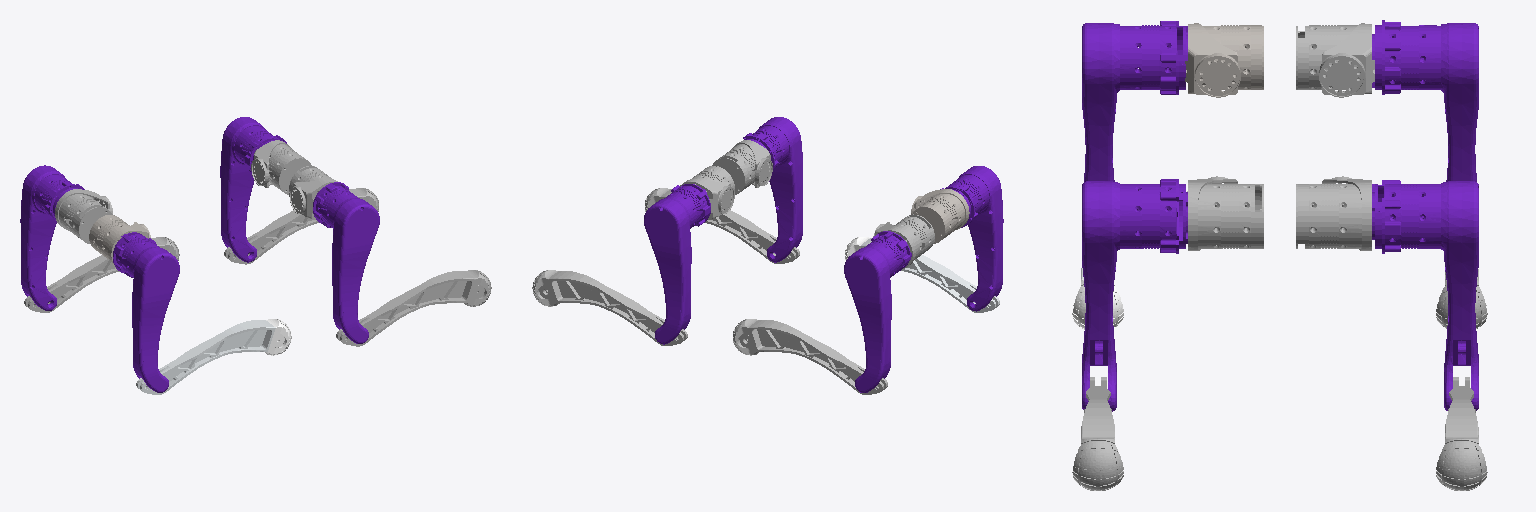
robot.urdf — hje3:
<?xml version="1.0" encoding="utf-8"?>

<robot name="hje3">
  <link name="base_link">
    <inertial>
        <origin xyz="0.000055 0.001439 0.005245" rpy="0 0 0" />
      <mass value="6.7" />
      <inertia ixx="0.03265071" ixy="0.000003032" ixz="-0.000008784" iyy="0.052731396" iyz="0.000111418" izz="0.073843864" />
    </inertial>
    <visual>
      <origin xyz="0 0 0" rpy="0 0 0" />
      <geometry>
        <mesh filename="../meshes/base_link.STL" />
      </geometry>
      <material name="">
        <color rgba="1 0.5 0.75294 1" />
      </material>
    </visual>
    <collision>
      <origin xyz="0 0 0" rpy="0 0 0" />
      <geometry>
        <box size="0.28 0.216 0.112"/>
      </geometry>
    </collision>
  </link>

  <link name="FL_hip">
    <inertial>
      <origin xyz="-0.001963 0.001357 0" rpy="0 0 0" />
      <mass value="0.718" />
      <inertia ixx="0.000359936" ixy="-0.000004579" ixz="0.000000011" iyy="0.000431888" iyz="-0.000000013" izz="0.000398364" />
    </inertial>
    <visual>
      <origin xyz="0 0 0" rpy="0 0 0" />
      <geometry>
        <mesh filename="../meshes/FL_HIP_Link.STL" />
      </geometry>
      <material name="">
        <color rgba="0.75294 0.75294 0.75294 1" />
      </material>
    </visual>
    <collision>
      <origin xyz="0.0 0.0 0" rpy="1.57 0 0" />
      <geometry>
       <cylinder length="0.073" radius="0.03"/>
      </geometry>
    </collision>
  </link>

  <joint name="FL_hip_joint" type="revolute">
    <origin xyz="0.1875 0.062 0" rpy="0 0 0" />
    <parent link="base_link" />
    <child link="FL_hip" />
    <axis xyz="1 0 0" />
    <limit lower="-0.5" upper="0.5" effort="27" velocity="27" />
  </joint>

  <link name="FL_thigh">
    <inertial>
      <origin xyz="-0.002987 -0.02756 -0.021782" rpy="0 0 0" />
      <mass value="0.96" />
      <inertia ixx="0.003158375" ixy="-0.000079198" ixz="0.000246623" iyy="0.002941752" iyz="-0.000581791" izz="0.000812062" />
    </inertial>
    <visual>
      <origin xyz="0 0 0" rpy="0 0 0" />
      <geometry>
        <mesh filename="../meshes/FL_THIGH_Link.STL" />
      </geometry>
      <material name="">
        <color rgba="0.5 0.2 0.8 1.0" />
      </material>
    </visual>
    <collision>
      <origin xyz="0.0 -0.03 0" rpy="1.57 0 0" />
      <geometry>
        <cylinder length="0.10" radius="0.03"/>
      </geometry>
    </collision>
    <collision>
      <origin xyz="-0.015 0.0 -0.105" rpy="0.0 0 0" />
      <geometry>
        <cylinder length="0.12" radius="0.02"/>
      </geometry>
    </collision>
  </link>

  <joint name="FL_thigh_joint" type="revolute">
    <origin xyz="0 0.12 0" rpy="0 0 0" />
    <parent link="FL_hip" />
    <child link="FL_thigh" />
    <axis xyz="0 1 0" />
    <limit lower="-1.85" upper="3.4" effort="27" velocity="27" />
  </joint>

  <link name="FL_calf">
    <inertial>
      <origin xyz="0.009694 0 -0.110232" rpy="0 0 0" />
      <mass value="0.105" />
      <inertia ixx="0.000710214" ixy="0" ixz="-0.000027472" iyy="0.000727939" iyz="0" izz="0.00002556" />
    </inertial>
    <visual>
      <origin xyz="0 0 0" rpy="0 0 0" />
      <geometry>
        <mesh filename="../meshes/FL_CALF_Link.STL" />
      </geometry>
      <material name="">
        <color rgba="0.75294 0.75294 0.75294 1" />
      </material>
    </visual>
    <collision>
      <origin xyz="0.018 0 -0.160" rpy="0 0.13 0" />
      <geometry>
        <cylinder length="0.06" radius="0.025"/>
      </geometry>
    </collision>
  </link>

  <joint name="FL_calf_joint" type="revolute">
    <origin xyz="0 0 -0.2" rpy="0 0 0" />
    <parent link="FL_thigh" />
    <child link="FL_calf" />
    <axis xyz="0 1 0" />
    <limit lower="-2.757" upper="-0.66" effort="27" velocity="27" />
  </joint>

  <link name="FL_foot">
    <inertial>
      <origin xyz="-0.003032 -0.000269 -0.005702" rpy="0 0 0" />
      <mass value="0.064" />
      <inertia ixx="0.000017474" ixy="-0.000000052" ixz="-0.000002419" iyy="0.000020216" iyz="-0.000000099" izz="0.000020737" />
    </inertial>
    <visual>
      <origin xyz="0 0 0" rpy="0 0 0" />
      <geometry>
        <mesh filename="../meshes/FL_FOOT_Link.STL" />
      </geometry>
      <material name="">
        <color rgba="0.75294 0.75294 0.75294 1" />
      </material>
    </visual>
    <collision>
      <origin xyz="0.0 0 0.0" rpy="0 0 0" />
      <geometry>
          <sphere radius="0.03"/>
      </geometry>
    </collision>
  </link>

  <joint name="FL_foot_joint" type="fixed" dont_collapse="true">
    <origin xyz="0 0 -0.219" rpy="0 0 0" />
    <parent link="FL_calf" />
    <child link="FL_foot" />
    <axis xyz="0 0 0" />
  </joint>


  <link name="FR_hip">
    <inertial>
      <origin xyz="-0.001963 -0.001357 0" rpy="0 0 0" />
      <mass value="0.718" />
      <inertia ixx="0.000359936" ixy="0.000004579" ixz="-0.000000011" iyy="0.000431888" iyz="-0.000000013" izz="0.000398364" />
    </inertial>
    <visual>
      <origin xyz="0 0 0" rpy="0 0 0" />
      <geometry>
        <mesh filename="../meshes/FR_HIP_Link.STL" />
      </geometry>
      <material name="">
        <color rgba="0.75294 0.75294 0.75294 1" />
      </material>
    </visual>
    <collision>
      <origin xyz="0.0 0.0 0" rpy="1.57 0 0" />
      <geometry>
       <cylinder length="0.073" radius="0.03"/>
      </geometry>
    </collision>
  </link>

  <joint name="FR_hip_joint" type="revolute">
    <origin xyz="0.1875 -0.062 0" rpy="0 0 0" />
    <parent link="base_link" />
    <child link="FR_hip" />
    <axis xyz="1 0 0" />
    <limit lower="-0.5" upper="0.5" effort="27" velocity="27" />
  </joint>

  <link name="FR_thigh">
    <inertial>
      <origin xyz="-0.002987 0.02756 -0.021782" rpy="0 0 0" />
      <mass value="0.96" />
      <inertia ixx="0.003158375" ixy="0.000079198" ixz="0.000246623" iyy="0.002941752" iyz="0.000581791" izz="0.000812062" />
    </inertial>
    <visual>
      <origin xyz="0 0 0" rpy="0 0 0" />
      <geometry>
        <mesh filename="../meshes/FR_THIGH_Link.STL" />
      </geometry>
      <material name="">
        <color rgba="0.5 0.2 0.8 1.0" />
      </material>
    </visual>
    <collision>
      <origin xyz="0.0 0.03 0" rpy="1.57 0 0" />
      <geometry>
        <cylinder length="0.10" radius="0.03"/>
      </geometry>
    </collision>
    <collision>
      <origin xyz="-0.015 0.0 -0.105" rpy="0.0 0 0" />
      <geometry>
        <cylinder length="0.12" radius="0.02"/>
      </geometry>
    </collision>
  </link>


  <joint name="FR_thigh_joint" type="revolute">
    <origin xyz="0 -0.12 0" rpy="0 0 0" />
    <parent link="FR_hip" />
    <child link="FR_thigh" />
    <axis xyz="0 1 0" />
    <limit lower="-1.85" upper="3.4" effort="27" velocity="27" />
  </joint>

  <link name="FR_calf">
    <inertial>
      <origin xyz="0.009694 0 -0.110232" rpy="0 0 0" />
      <mass value="0.105" />
      <inertia ixx="0.000710214" ixy="0" ixz="-0.000027472" iyy="0.000727939" iyz="0" izz="0.00002556" />
    </inertial>
    <visual>
      <origin xyz="0 0 0" rpy="0 0 0" />
      <geometry>
        <mesh filename="../meshes/FR_CALF_Link.STL" />
      </geometry>
      <material name="">
        <color rgba="0.75294 0.75294 0.75294 1" />
      </material>
    </visual>
    <collision>
      <origin xyz="0.018 0 -0.160" rpy="0 0.13 0" />
      <geometry>
        <cylinder length="0.06" radius="0.025"/>
      </geometry>
    </collision>
  </link>

  <joint name="FR_calf_joint" type="revolute">
    <origin xyz="0 0 -0.2" rpy="0 0 0" />
    <parent link="FR_thigh" />
    <child link="FR_calf" />
    <axis xyz="0 1 0" />
    <limit lower="-2.757" upper="-0.66" effort="27" velocity="27" />
  </joint>

  <link name="FR_foot">
    <inertial>
      <origin xyz="-0.003032 -0.000269 -0.005702" rpy="0 0 0" />
      <mass value="0.064" />
      <inertia ixx="0.000017474" ixy="-0.000000052" ixz="-0.000002419" iyy="0.000020216" iyz="-0.000000099" izz="0.000020737" />
    </inertial>
    <visual>
      <origin xyz="0 0 0" rpy="0 0 0" />
      <geometry>
        <mesh filename="../meshes/FR_FOOT_Link.STL" />
      </geometry>
      <material name="">
        <color rgba="0.75294 0.75294 0.75294 1" />
      </material>
    </visual>
    <collision>
      <origin xyz="0.0 0 0.0" rpy="0 0 0" />
      <geometry>
          <sphere radius="0.03"/>
      </geometry>
    </collision>
  </link>

  <joint name="FR_foot_joint" type="fixed" dont_collapse="true">
    <origin xyz="0 0 -0.219" rpy="0 0 0" />
    <parent link="FR_calf" />
    <child link="FR_foot" />
    <axis xyz="0 0 0" />
  </joint>


  <link name="RL_hip">
    <inertial>
      <origin xyz="0.001963 0.001357 0" rpy="0 0 0" />
      <mass value="0.718" />
      <inertia ixx="0.000359936" ixy="0.000004579" ixz="0.000000011" iyy="0.000431888" iyz="0.000000013" izz="0.000398364" />
    </inertial>
    <visual>
      <origin xyz="0 0 0" rpy="0 0 0" />
      <geometry>
        <mesh filename="../meshes/RL_HIP_Link.STL" />
      </geometry>
      <material name="">
        <color rgba="0.75294 0.75294 0.75294 1" />
      </material>
    </visual>
    <collision>
      <origin xyz="0.0 0.0 0" rpy="1.57 0 0" />
      <geometry>
       <cylinder length="0.073" radius="0.03"/>
      </geometry>
    </collision>
  </link>
  <joint name="RL_hip_joint" type="revolute">
    <origin xyz="-0.1875 0.062 0" rpy="0 0 0" />
    <parent link="base_link" />
    <child link="RL_hip" />
    <axis xyz="1 0 0" />
    <limit lower="-0.5" upper="0.5" effort="27" velocity="27" />
  </joint>
  <link name="RL_thigh">
    <inertial>
      <origin xyz="-0.002987 -0.02756 -0.021782" rpy="0 0 0" />
      <mass value="0.96" />
      <inertia ixx="0.003158375" ixy="-0.000079198" ixz="0.000246623" iyy="0.002941752" iyz="-0.000581791" izz="0.000812062" />
    </inertial>
    <visual>
      <origin xyz="0 0 0" rpy="0 0 0" />
      <geometry>
        <mesh filename="../meshes/RL_THIGH_Link.STL" />
      </geometry>
      <material name="">
        <color rgba="0.5 0.2 0.8 1.0" />
      </material>
    </visual>
    <collision>
      <origin xyz="0.0 -0.03 0" rpy="1.57 0 0" />
      <geometry>
        <cylinder length="0.10" radius="0.03"/>
      </geometry>
    </collision>
    <collision>
      <origin xyz="-0.015 0.0 -0.105" rpy="0.0 0 0" />
      <geometry>
        <cylinder length="0.12" radius="0.02"/>
      </geometry>
    </collision>
  </link>

  <joint name="RL_thigh_joint" type="revolute">
    <origin xyz="0 0.12 0" rpy="0 0 0" />
    <parent link="RL_hip" />
    <child link="RL_thigh" />
    <axis xyz="0 1 0" />
    <limit lower="-1.85" upper="3.4" effort="27" velocity="27" />
  </joint>

  <link name="RL_calf">
    <inertial>
      <origin xyz="0.009694 0 -0.110232" rpy="0 0 0" />
      <mass value="0.105" />
      <inertia ixx="0.000710214" ixy="0" ixz="-0.000027472" iyy="0.000727939" iyz="0" izz="0.00002556" />
    </inertial>
    <visual>
      <origin xyz="0 0 0" rpy="0 0 0" />
      <geometry>
        <mesh filename="../meshes/RL_CALF_Link.STL" />
      </geometry>
      <material name="">
        <color rgba="0.75294 0.75294 0.75294 1" />
      </material>
    </visual>
    <collision>
      <origin xyz="0.018 0 -0.160" rpy="0 0.13 0" />
      <geometry>
        <cylinder length="0.06" radius="0.025"/>
      </geometry>
    </collision>
  </link>

  <joint name="RL_calf_joint" type="revolute">
    <origin xyz="0 0 -0.2" rpy="0 0 0" />
    <parent link="RL_thigh" />
    <child link="RL_calf" />
    <axis xyz="0 1 0" />
    <limit lower="-2.757" upper="-0.66" effort="27" velocity="27" />
  </joint>

  <link name="RL_foot">
    <inertial>
      <origin xyz="-0.003032 -0.000269 -0.005702" rpy="0 0 0" />
      <mass value="0.064" />
      <inertia ixx="0.000017474" ixy="-0.000000052" ixz="-0.000002419" iyy="0.000020216" iyz="-0.000000099" izz="0.000020737" />
    </inertial>
    <visual>
      <origin xyz="0 0 0" rpy="0 0 0" />
      <geometry>
        <mesh filename="../meshes/RL_FOOT_Link.STL" />
      </geometry>
      <material name="">
        <color rgba="0.75294 0.75294 0.75294 1" />
      </material>
    </visual>
    <collision>
      <origin xyz="0.0 0 0.0" rpy="0 0 0" />
      <geometry>
          <sphere radius="0.03"/>
      </geometry>
    </collision>
  </link>
  <joint name="RL_foot_joint" type="fixed" dont_collapse="true">
    <origin xyz="0 0 -0.219" rpy="0 0 0" />
    <parent link="RL_calf" />
    <child link="RL_foot" />
    <axis xyz="0 0 0" />
  </joint>

  <link name="RR_hip">
    <inertial>
      <origin xyz="0.001963 -0.001357 0" rpy="0 0 0" />
      <mass value="0.718" />
      <inertia ixx="0.000359936" ixy="-0.000004579" ixz="-0.000000011" iyy="0.000431888" iyz="0.000000013" izz="0.000398364" />
    </inertial>
    <visual>
      <origin xyz="0 0 0" rpy="0 0 0" />
      <geometry>
        <mesh filename="../meshes/RR_HIP_Link.STL" />
      </geometry>
      <material name="">
        <color rgba="0.77647 0.75686 0.73725 1" />
      </material>
    </visual>
    <collision>
      <origin xyz="0.0 0.0 0" rpy="1.57 0 0" />
      <geometry>
       <cylinder length="0.073" radius="0.03"/>
      </geometry>
    </collision>
  </link>

  <joint name="RR_hip_joint" type="revolute">
    <origin xyz="-0.1875 -0.062 0" rpy="0 0 0" />
    <parent link="base_link" />
    <child link="RR_hip" />
    <axis xyz="1 0 0" />
    <limit lower="-0.5" upper="0.5" effort="27" velocity="27" />
  </joint>

  <link name="RR_thigh">
    <inertial>
      <origin xyz="-0.002987 0.02756 -0.021782" rpy="0 0 0" />
      <mass value="0.96" />
      <inertia ixx="0.003158375" ixy="0.000079198" ixz="0.000246623" iyy="0.002941752" iyz="0.000581791" izz="0.000812062" />
    </inertial>
    <visual>
      <origin xyz="0 0 0" rpy="0 0 0" />
      <geometry>
        <mesh filename="../meshes/RR_THIGH_Link.STL" />
      </geometry>
      <material name="">
        <color rgba="0.5 0.2 0.8 1.0" />
      </material>
    </visual>
    <collision>
      <origin xyz="0.0 0.03 0" rpy="1.57 0 0" />
      <geometry>
        <cylinder length="0.10" radius="0.03"/>
      </geometry>
    </collision>
    <collision>
      <origin xyz="-0.015 0.0 -0.105" rpy="0.0 0 0" />
      <geometry>
        <cylinder length="0.12" radius="0.02"/>
      </geometry>
    </collision>
  </link>

  <joint name="RR_thigh_joint" type="revolute">
    <origin xyz="0 -0.12 0" rpy="0 0 0" />
    <parent link="RR_hip" />
    <child link="RR_thigh" />
    <axis xyz="0 1 0" />
    <limit lower="-1.85" upper="3.4" effort="27" velocity="27" />
  </joint>

  <link name="RR_calf">
    <inertial>
      <origin xyz="0.009694 0 -0.110232" rpy="0 0 0" />
      <mass value="0.105" />
      <inertia ixx="0.000710214" ixy="0" ixz="-0.000027472" iyy="0.000727939" iyz="0" izz="0.00002556" />
    </inertial>
    <visual>
      <origin xyz="0 0 0" rpy="0 0 0" />
      <geometry>
        <mesh filename="../meshes/RR_CALF_Link.STL" />
      </geometry>
      <material name="">
        <color rgba="0.89804 0.91765 0.92941 1" />
      </material>
    </visual>
    <collision>
      <origin xyz="0.018 0 -0.160"
        rpy=" 0 0.13 0" />
      <geometry>
        <cylinder length="0.06" radius="0.025"/>
      </geometry>
    </collision>
  </link>

  <joint name="RR_calf_joint" type="revolute">
    <origin xyz="0 0 -0.2" rpy="0 0 0" />
    <parent link="RR_thigh" />
    <child link="RR_calf" />
    <axis xyz="0 1 0" />
    <limit lower="-2.757" upper="-0.66" effort="27" velocity="27" />
  </joint>

  <link name="RR_foot">
    <inertial>
      <origin xyz="-0.003032 -0.000269 -0.005702" rpy="0 0 0" />
      <mass value="0.064" />
      <inertia ixx="0.000017474" ixy="-0.000000052" ixz="-0.000002419" iyy="0.000020216" iyz="-0.000000099" izz="0.000020737" />
    </inertial>
    <visual>
      <origin xyz="0 0 0" rpy="0 0 0" />
      <geometry>
        <mesh filename="../meshes/RR_FOOT_Link.STL" />
      </geometry>
      <material name="">
        <color rgba="1 1 1 1" />
      </material>
    </visual>
    <collision>
      <origin xyz="0.0 0 0.0" rpy="0 0 0" />
      <geometry>
          <sphere radius="0.03"/>
      </geometry>
    </collision>
  </link>

  <joint name="RR_foot_joint" type="fixed" dont_collapse="true">
    <origin xyz="0 0 -0.219" rpy="0 0 0" />
    <parent link="RR_calf" />
    <child link="RR_foot" />
    <axis xyz="0 0 0" />
  </joint>
</robot>

--- What the picture shows (computed from the rendered views, not written in the file) ---
3 views of the same robot in one strip: view 1: azimuth 30°, elevation 25°; view 2: azimuth 150°, elevation 25°; view 3: azimuth 270°, elevation 25° (orthographic).
Model hje3 with 17 links and 16 joints (12 revolute, 4 fixed), rooted at base_link, posed joints at zero except 4 at the middle of their limits (FL_calf_joint = -1.71, FR_calf_joint = -1.71, RL_calf_joint = -1.71, RR_calf_joint = -1.71).
Links seen in each view (by area): view 1: FR_thigh, RR_thigh, RL_thigh, FL_thigh, FR_calf, RR_calf, FL_hip, RL_hip, RL_calf, FL_calf, FR_hip, RR_hip (+2 smaller); view 2: FL_thigh, RL_thigh, RR_thigh, FR_thigh, RL_calf, FL_calf, FR_hip, RR_hip, RR_calf, FR_calf, FL_hip, RL_hip (+2 smaller); view 3: FL_thigh, FR_thigh, RL_thigh, RR_thigh, RR_hip, RL_hip, FR_hip, FL_hip, FL_foot, FR_foot, FR_calf, FL_calf (+2 smaller).
Boxes of the visible links, x1,y1,x2,y2 form: FR_thigh: (313,182,379,343); RR_thigh: (113,232,179,392); RL_thigh: (20,165,84,310); FL_thigh: (220,117,286,262); FR_calf: (336,271,475,346); RR_calf: (136,320,275,394); FL_hip: (251,140,311,194); RL_hip: (55,189,112,243); RL_calf: (24,238,163,312); FL_calf: (224,189,363,264); FR_hip: (289,166,337,219); RR_hip: (89,215,150,264); FL_thigh: (644,184,710,344); RL_thigh: (844,231,911,392); RR_thigh: (940,166,1003,311); FR_thigh: (743,117,802,262); RL_calf: (749,320,887,394); FL_calf: (548,271,687,345); FR_hip: (712,140,772,194); RR_hip: (911,189,969,243); RR_calf: (861,238,999,312); FR_calf: (661,189,799,263); FL_hip: (680,166,734,219); RL_hip: (873,214,934,268); FL_thigh: (1372,180,1478,410); FR_thigh: (1082,179,1187,411); RL_thigh: (1372,20,1478,181); RR_thigh: (1082,21,1187,181); RR_hip: (1185,23,1263,97); RL_hip: (1296,23,1374,97); FR_hip: (1187,176,1263,250); FL_hip: (1296,176,1371,250); FL_foot: (1436,437,1487,490); FR_foot: (1072,437,1123,490); FR_calf: (1081,377,1114,436); FL_calf: (1445,377,1478,436).
Size in the robot's own frame: 0.6623 by 0.4156 by 0.2575 metres.
Meshes: 17 distinct files referenced, 16 mesh visuals loaded (16 binary STL); not drawn: 1 (reference not matched to a file when rendering).
